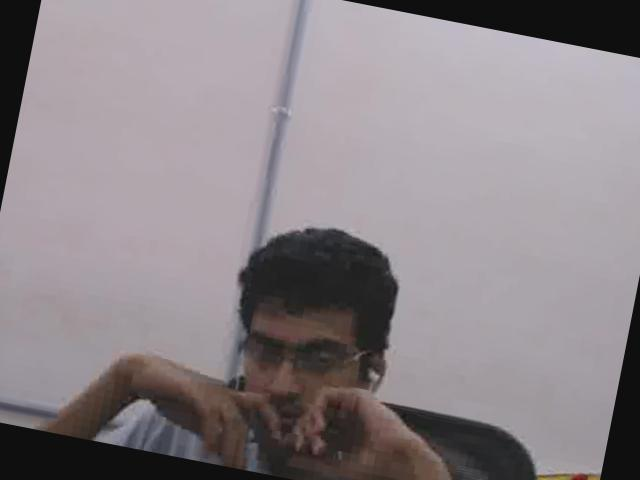bosan: (231, 289, 380, 460)
